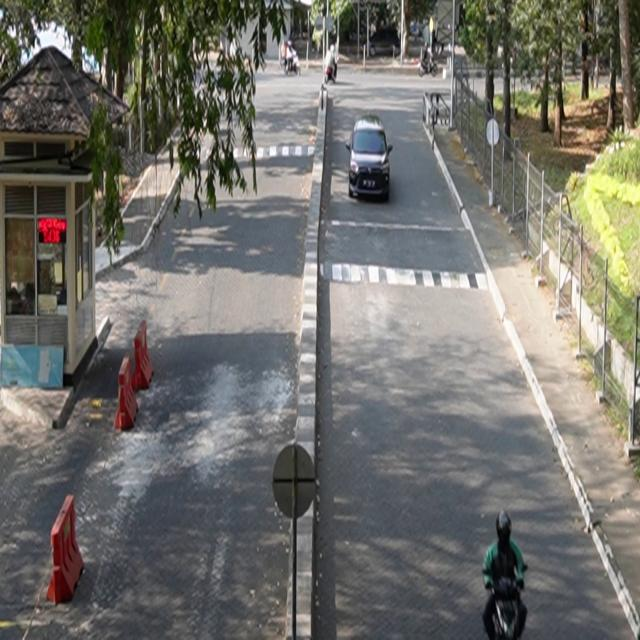car: (346, 114, 394, 202)
